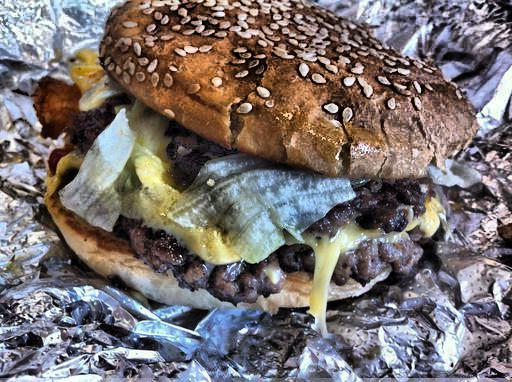burger: (33, 8, 461, 310)
